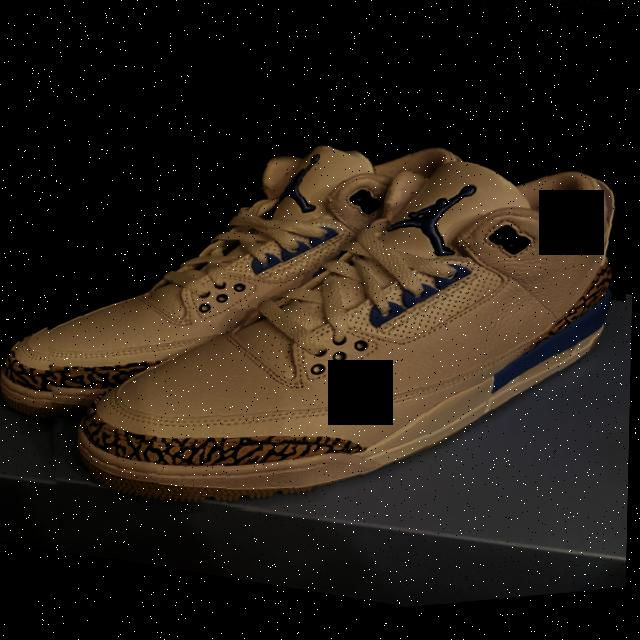shoe: (33, 129, 633, 529), (0, 107, 487, 436)
